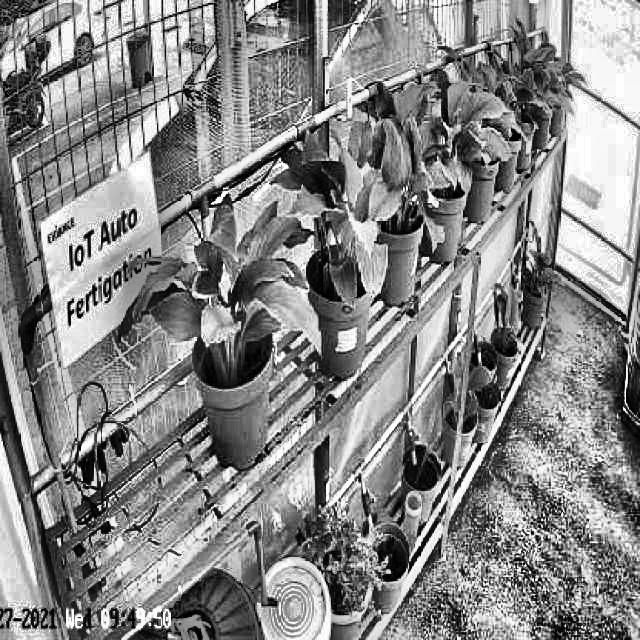plants: (126, 200, 322, 388), (270, 131, 387, 300), (338, 88, 429, 230), (396, 68, 472, 197)
